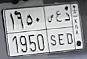D: (65, 12, 74, 45)
E: (56, 10, 65, 46)
S: (46, 13, 57, 46)
